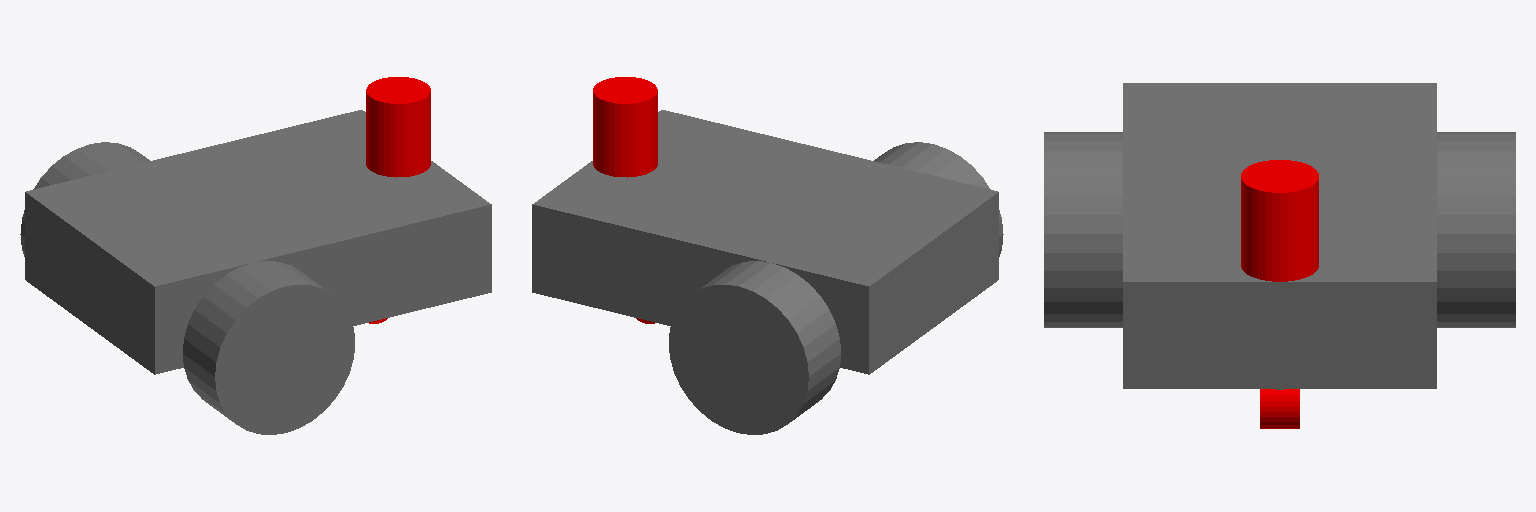
robot.urdf — my_robo:
<?xml version="1.0"?>
<robot name="my_robo" xmlns:xacro="http://ros.org/wiki/xacro">
  <material name="gray">
    <color rgba="0.5 0.5 0.5 2.5"/>
  </material>
  <material name="red">
    <color rgba="1.0 0.0 0.0 2.5"/>
  </material>

  <link name="base_link"/>

  <joint name="bodyjoint" type="fixed">
    <parent link="base_link"/>
    <child  link="body_link"/>
    <origin xyz="0.05 0 0.07" rpy="0 0 0"/>
  </joint>
  <link name="body_link">
    <inertial>
      <origin xyz="0 0 0" rpy="0 0 0"/>
      <mass value="2.0"/>
      <inertia ixx="0.1" ixy="0.0" ixz="0.0" iyy="0.1" iyz="0.0" izz="0.1"/>
    </inertial>
    <visual>
      <origin xyz="0 0 0" rpy="0 0 0" />
      <geometry>
        <box size="0.24 0.16 0.06" />
      </geometry>
      <material name="gray" />
    </visual>
    <collision>
      <origin xyz="0 0 0" rpy="0 0 0"/>
      <geometry>
        <box size="0.23 0.15 0.05" />
      </geometry>
    </collision>
  </link>
  <gazebo reference="body_link">
    <mu1 value="0.5" />
    <mu2 value="0.5" />
    <material>Gazebo/Gray</material>
  </gazebo>

  <joint name="left_wheel_joint" type="continuous">
    <parent link="base_link"/>
    <child  link="left_wheel_link"/>
    <origin xyz="0 0.1 0.05" rpy="-1.5708 0 0"/>
    <axis xyz="0 0 1" />
    <limit velocity="12.0" effort="0.4" />
    <dynamics damping="0.1"/>
  </joint>
  <transmission name="left_wheel_trans">
    <type>transmission_interface/SimpleTransmission</type>
    <joint name="left_wheel_joint">
        <hardwareInterface>hardware_interface/VelocityJointInterface</hardwareInterface>
    </joint>
    <actuator name="left_wheel_motor">
       <hardwareInterface>hardware_interface/VelocityJointInterface</hardwareInterface>
       <mechanismReduction>1</mechanismReduction>
    </actuator>
  </transmission>

  <link name="left_wheel_link">
    <inertial>
      <origin xyz="0 0 0" rpy="0 0 0"/>
      <mass value="0.1"/>
      <inertia ixx="0.1" ixy="0.0" ixz="0.0" iyy="0.1" iyz="0.0" izz="0.1"/>
    </inertial>
    <visual>
      <origin xyz="0 0 0" rpy="0 0 0" />
      <geometry>
        <cylinder radius="0.05" length="0.04" />
      </geometry>
      <material name="red">
        <color rgba="0.5 0.5 0.5 2.5"/>
      </material>
    </visual>
    <collision>
      <origin xyz="0 0 0" rpy="0 0 0"/>
      <geometry>
        <cylinder radius="0.05" length="0.04" />
      </geometry>
    </collision>
  </link>
  <gazebo reference="left_wheel_link">
    <mu1 value="0.5" />
    <mu2 value="0.5" />
    <material>Gazebo/Red</material>
  </gazebo>

  <joint name="right_wheel_joint" type="continuous">
    <parent link="base_link"/>
    <child  link="right_wheel_link"/>
    <origin xyz="0 -0.1 0.05" rpy="-1.5708 0 0"/>
    <axis xyz="0 0 1" />
    <limit velocity="12.0" effort="0.4" />
    <dynamics damping="0.1"/>
  </joint>
  <transmission name="right_wheel_trans">
    <type>transmission_interface/SimpleTransmission</type>
    <joint name="right_wheel_joint">
        <hardwareInterface>hardware_interface/VelocityJointInterface</hardwareInterface>
    </joint>
    <actuator name="right_wheel_motor">
       <hardwareInterface>hardware_interface/VelocityJointInterface</hardwareInterface>
       <mechanismReduction>1</mechanismReduction>
    </actuator>
  </transmission>

  <link name="right_wheel_link">
    <inertial>
      <origin xyz="0 0 0" rpy="0 0 0"/>
      <mass value="0.1"/>
      <inertia ixx="0.1" ixy="0.0" ixz="0.0" iyy="0.1" iyz="0.0" izz="0.1"/>
    </inertial>
    <visual>
      <origin xyz="0 0 0" rpy="0 0 0" />
      <geometry>
        <cylinder radius="0.05" length="0.04" />
      </geometry>
      <material name="red">
        <color rgba="0.5 0.5 0.5 2.5"/>
      </material>
    </visual>
    <collision>
      <origin xyz="0 0 0" rpy="0 0 0"/>
      <geometry>
        <cylinder radius="0.05" length="0.04" />
      </geometry>
    </collision>
  </link>
  <gazebo reference="right_wheel_link">
    <mu1 value="0.5" />
    <mu2 value="0.5" />
    <material>Gazebo/Red</material>
  </gazebo>

  <joint name="front_steer_joint" type="continuous">
    <parent link="base_link"/>
    <child  link="front_steer_link"/>
    <origin xyz="0.14 0 0.05" rpy="0 0 0"/>
    <axis xyz="0 0 1" />
    <dynamics damping="0.7"/>
  </joint>
  <transmission name="front_steer_trans">
    <type>transmission_interface/SimpleTransmission</type>
    <joint name="front_steer_joint">
        <hardwareInterface>hardware_interface/EffortJointInterface</hardwareInterface>
    </joint>
    <actuator name="front_steer_motor">
       <hardwareInterface>hardware_interface/EffortJointInterface</hardwareInterface>
       <mechanismReduction>1</mechanismReduction>
    </actuator>
  </transmission>

  <link name="front_steer_link">
    <inertial>
      <origin xyz="0 0 0" rpy="0 0 0"/>
      <mass value="0.1"/>
      <inertia ixx="0.1" ixy="0.0" ixz="0.0" iyy="0.1" iyz="0.0" izz="0.1"/>
    </inertial>
   <visual>
     <origin xyz="0 0 0" rpy="0 0 0" />
     <geometry>
       <cylinder radius="0.01" length="0.04" />
     </geometry>
     <material name="gray" />
   </visual>
  </link>

  <joint name="front_wheel_joint" type="continuous">
    <parent link="front_steer_link"/>
    <child  link="front_wheel_link"/>
    <origin xyz="-0.01 0 -0.035" rpy="1.5708 0 0"/>
    <axis xyz="0 0 1" />
  </joint>
  <transmission name="front_wheel_trans">
    <type>transmission_interface/SimpleTransmission</type>
    <joint name="front_wheel_joint">
        <hardwareInterface>hardware_interface/EffortJointInterface</hardwareInterface>
    </joint>
    <actuator name="front_wheel_motor">
       <hardwareInterface>hardware_interface/EffortJointInterface</hardwareInterface>
       <mechanismReduction>1</mechanismReduction>
    </actuator>
  </transmission>

  <link name="front_wheel_link">
    <inertial>
      <origin xyz="0 0 0" rpy="0 0 0"/>
      <mass value="0.3"/>
      <inertia ixx="0.1" ixy="0.0" ixz="0.0" iyy="0.1" iyz="0.0" izz="0.1"/>
    </inertial>
    <visual>
      <origin xyz="0 0 0" rpy="0 0 0" />
      <geometry>
        <cylinder radius="0.015" length="0.02" />
      </geometry>
      <material name="red" />
    </visual>
    <collision>
      <origin xyz="0 0 0" rpy="0 0 0"/>
      <geometry>
        <cylinder radius="0.015" length="0.02" />
      </geometry>
    </collision>
  </link>
  <gazebo reference="front_wheel_link">
    <mu1 value="1.3" />
    <mu2 value="1.3" />
    <material>Gazebo/Gray</material>
  </gazebo>

  <joint name="lidar_joint" type="fixed">
    <parent link="body_link"/>
    <child  link="lidar_link"/>
    <origin xyz="0.10 0 0.05" rpy="0 0 0"/>
  </joint>
  <link name="lidar_link">
    <visual>
      <origin xyz="0 0 0" rpy="0 0 0" />
      <geometry>
        <cylinder radius="0.02" length="0.06" />
      </geometry>
      <material name="red" />
    </visual>
    <collision>
      <origin xyz="0 0 0" rpy="0 0 0"/>
      <geometry>
        <cylinder radius="0.05" length="0.1" />
      </geometry>
    </collision>
  </link>
  <gazebo reference="lidar_link">
    <material>Gazebo/Red</material>
    <sensor type="ray" name="head_lidar">
      <pose>0 0 0 0 0 0</pose>
      <visualize>false</visualize>
      <update_rate>10</update_rate>
      <ray>
        <scan>
          <horizontal>
            <samples>400</samples>
            <resolution>1</resolution>
            <min_angle>-3.141592</min_angle>
            <max_angle> 3.141592</max_angle>
          </horizontal>
        </scan>
        <range>
          <min>0.10</min>
          <max>20.0</max>
          <resolution>0.01</resolution>
        </range>
        <noise>
          <type>gaussian</type>
          <mean>0.0</mean>
          <stddev>0.01</stddev>
        </noise>
      </ray>
      <plugin name="gazebo_ros_lidar_controller" filename="libgazebo_ros_laser.so">
        <topicName>/laser/scan</topicName>
        <frameName>lidar_link</frameName>
      </plugin>
    </sensor>
  </gazebo>

  <joint name="imu_joint" type="fixed">
    <parent link="body_link"/>
    <child  link="imu_link"/>
    <origin xyz="0 0 0" rpy="0 0 0"/>
  </joint>
  <link name="imu_link"/>
  <gazebo reference="imu_link">
    <gravity>true</gravity>
    <sensor name="imu_sensor" type="imu">
      <always_on>true</always_on>
      <update_rate>100</update_rate>
      <visualize>true</visualize>
      <topic>__default_topic__</topic>
      <plugin filename="libgazebo_ros_imu_sensor.so" name="imu_plugin">
        <topicName>imu</topicName>
        <bodyName>imu_link</bodyName>
        <updateRateHZ>10.0</updateRateHZ>
        <gaussianNoise>0.0</gaussianNoise>
        <xyzOffset>0 0 0</xyzOffset>
        <rpyOffset>0 0 0</rpyOffset>
        <frameName>imu_link</frameName>
      </plugin>
      <pose>0 0 0 0 0 0</pose>
    </sensor>
  </gazebo>

  <joint name="camera_joint" type="fixed">
    <parent link="body_link"/>
    <child  link="camera_link"/>
    <origin xyz="0.12 0 0" rpy="0 0 0"/>
  </joint>
  <link name="camera_link"/>
  <gazebo reference="camera_link">
    <sensor type="camera" name="camera1">
      <update_rate>30.0</update_rate>
      <camera name="head">
        <horizontal_fov>1.3962634</horizontal_fov>
        <image>
          <width>800</width>
          <height>800</height>
          <format>R8G8B8</format>
        </image>
        <clip>
          <near>0.02</near>
          <far>300</far>
        </clip>
        <noise>
          <type>gaussian</type>
          <mean>0.0</mean>
          <stddev>0.007</stddev>
        </noise>
      </camera>
      <plugin name="camera_controller" filename="libgazebo_ros_camera.so">
        <alwaysOn>true</alwaysOn>
        <updateRate>0.0</updateRate>
        <cameraName>wheelrobot/camera1</cameraName>
        <imageTopicName>image_raw</imageTopicName>
        <cameraInfoTopicName>camera_info</cameraInfoTopicName>
        <frameName>camera_link</frameName>
        <hackBaseline>0.07</hackBaseline>
        <distortionK1>0.0</distortionK1>
        <distortionK2>0.0</distortionK2>
        <distortionK3>0.0</distortionK3>
        <distortionT1>0.0</distortionT1>
        <distortionT2>0.0</distortionT2>
      </plugin>
    </sensor>
  </gazebo>


  <gazebo>
    <plugin name="gazebo_ros_control" filename="libgazebo_ros_control.so">
      <robotNamespace>/wheel_robot</robotNamespace>
    </plugin>
  </gazebo>
</robot>

--- Render facts (derived) ---
The picture shows the robot from 3 angles, left to right: view 1: azimuth 30°, elevation 25°; view 2: azimuth 150°, elevation 25°; view 3: azimuth 270°, elevation 25°; orthographic projection.
Robot: my_robo — 9 links, 8 joints (4 continuous, 4 fixed); root link base_link; default pose: all joints at 0.
Links seen in each view (by area): view 1: body_link, right_wheel_link, lidar_link, left_wheel_link; view 2: body_link, left_wheel_link, lidar_link, right_wheel_link; view 3: body_link, left_wheel_link, right_wheel_link, lidar_link, front_wheel_link.
Link boxes in pixels (x1,y1,x2,y2): body_link: [25, 110, 491, 374]; right_wheel_link: [183, 261, 354, 434]; lidar_link: [366, 77, 430, 177]; left_wheel_link: [20, 142, 149, 256]; body_link: [532, 110, 998, 374]; left_wheel_link: [669, 261, 840, 434]; lidar_link: [593, 77, 657, 177]; right_wheel_link: [874, 142, 1003, 256]; body_link: [1123, 83, 1436, 388]; left_wheel_link: [1437, 132, 1515, 327]; right_wheel_link: [1044, 132, 1122, 327]; lidar_link: [1241, 160, 1318, 281]; front_wheel_link: [1260, 389, 1299, 428].
Bounding box of the posed robot: 0.24 × 0.24 × 0.15 m (x, y, z).
Geometry: primitives only (box / cylinder / sphere), no mesh files.
